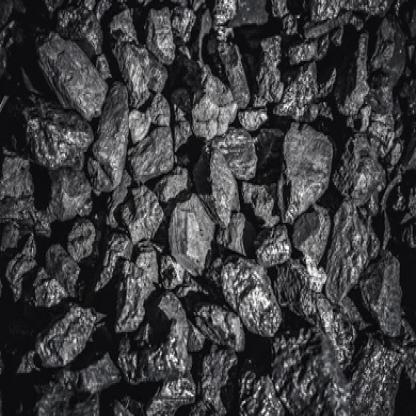Sedimentary_coal: (38, 31, 111, 124), (84, 76, 130, 195), (277, 119, 332, 211), (163, 185, 216, 279), (221, 241, 272, 333), (186, 64, 243, 140), (104, 233, 154, 318), (192, 294, 244, 353)
